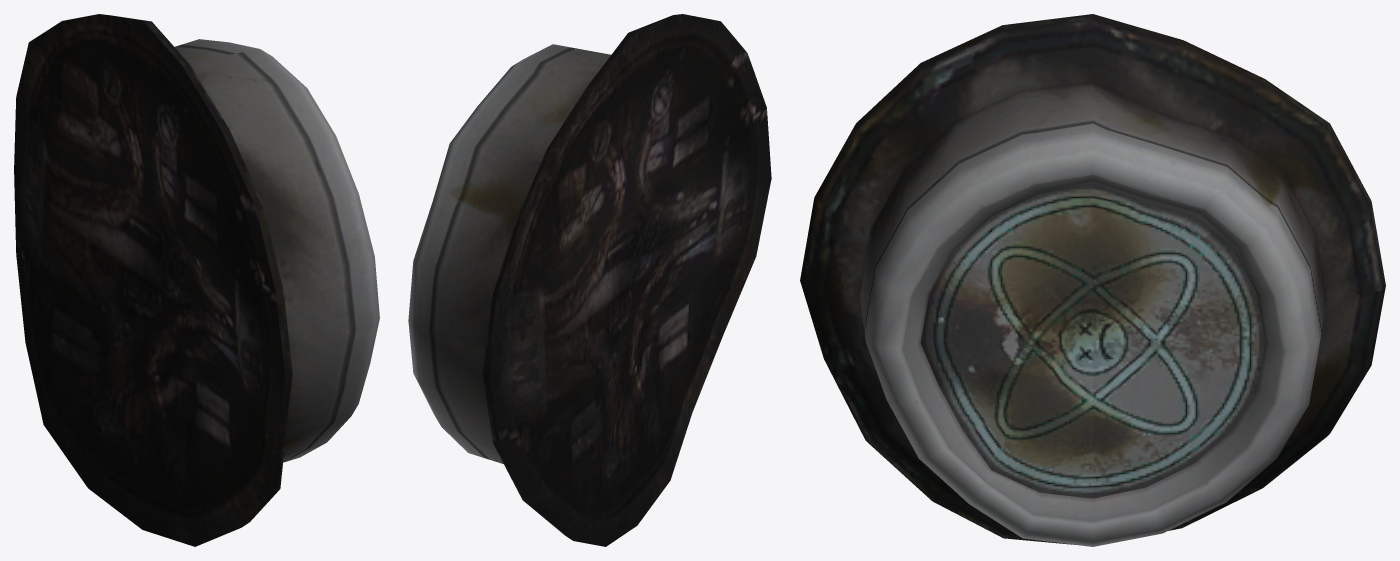
The model's file is nt_2020_wall_meter_cap_dest_LOD0.obj.
3 renders of one model, left to right at view 1: azimuth 30°, elevation 25°; view 2: azimuth 150°, elevation 25°; view 3: azimuth 270°, elevation 25°, orthographic. The views are drawn at different scales.
Visible parts, largest first — view 1: mtl_nt_2020_wall_meter_01_dest; view 2: mtl_nt_2020_wall_meter_01_dest; view 3: mtl_nt_2020_wall_meter_01_dest.
Part boxes in pixels (x1=…): mtl_nt_2020_wall_meter_01_dest: x1=14, y1=14, x2=379, y2=546; mtl_nt_2020_wall_meter_01_dest: x1=408, y1=14, x2=771, y2=546; mtl_nt_2020_wall_meter_01_dest: x1=800, y1=14, x2=1385, y2=546.
Bounding box in the file's own units: 5.62 × 17.24 × 17.24.
